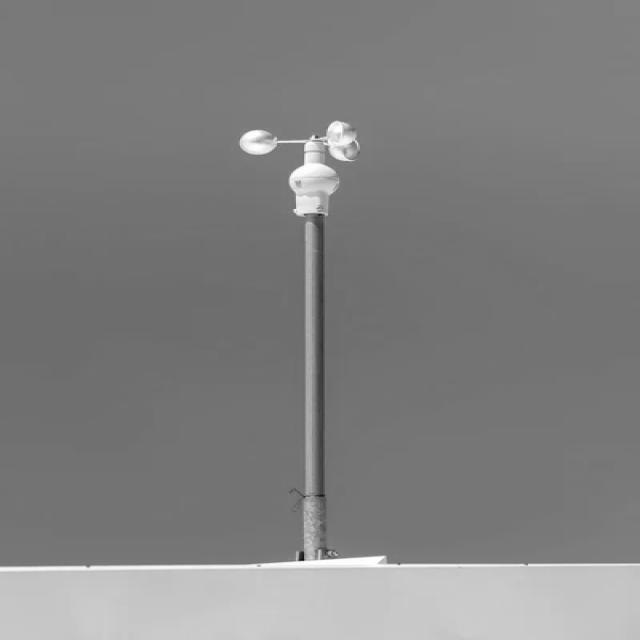Pole: (240, 120, 360, 562)
